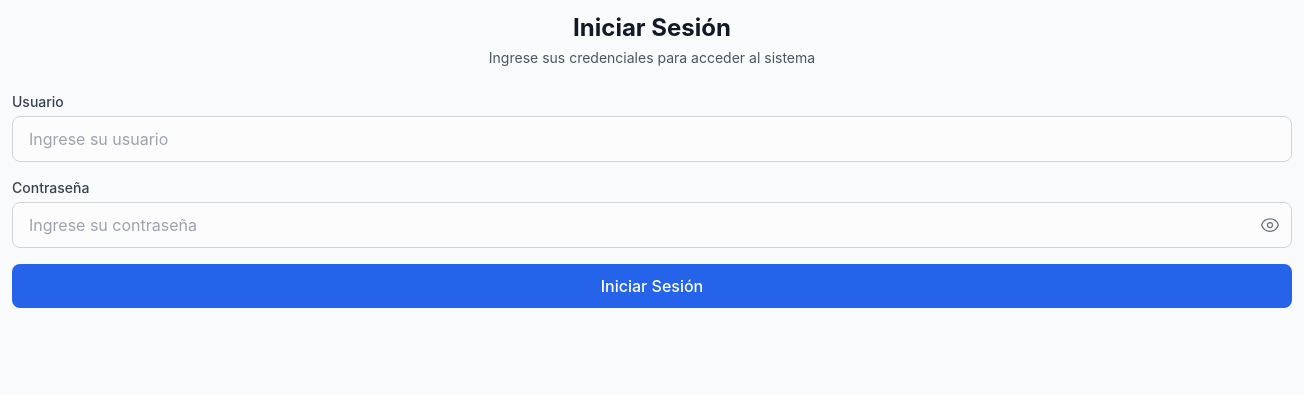
it: LoginPage › shows "Credenciales incorrectas" on 401 error
Step 1. Type "doctor1" into the field labelled "Usuario" → (652,139), box [12,116,1292,162]
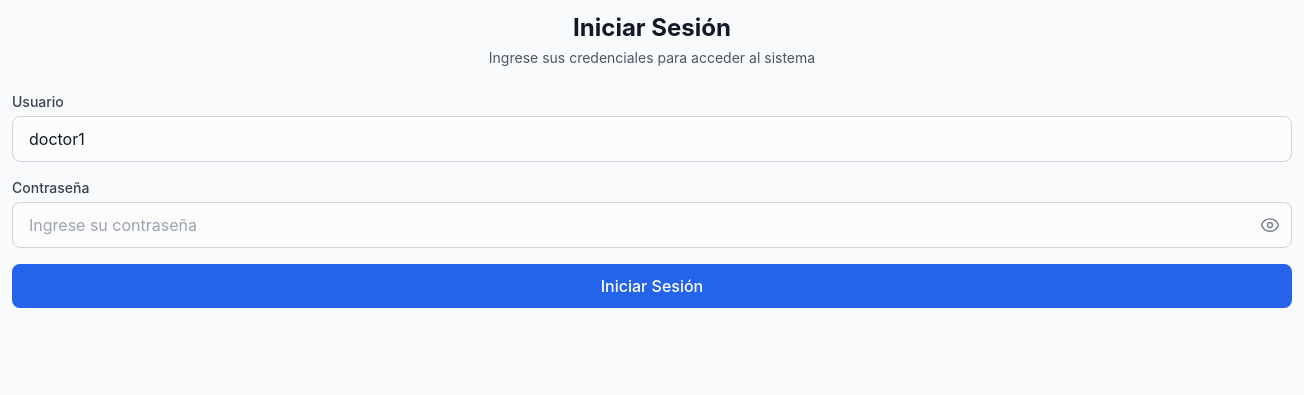
Step 2. Type "wrong" into the password field labelled "Contraseña" → (652,225), box [12,202,1292,248]
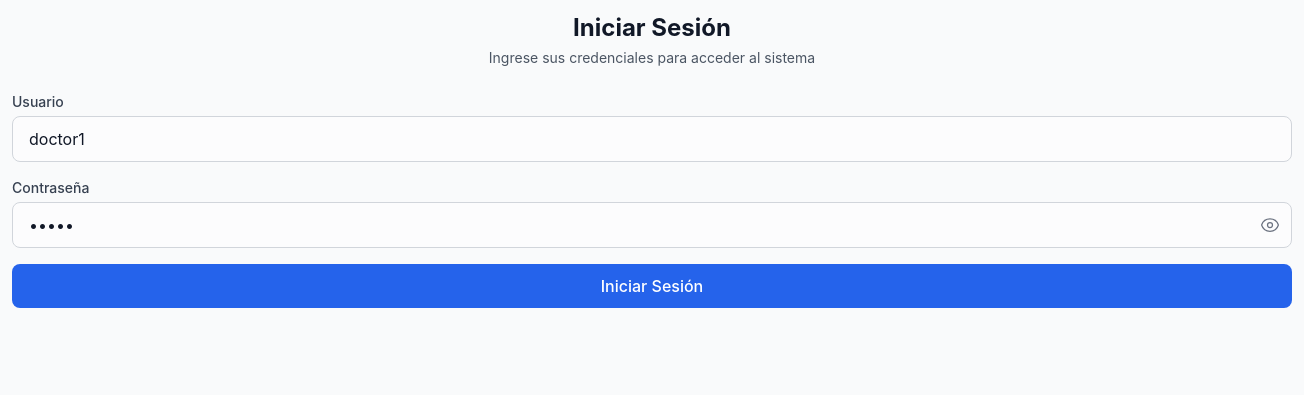
Step 3. Click the button "Iniciar Sesión" → (652,286), box [12,264,1292,308]
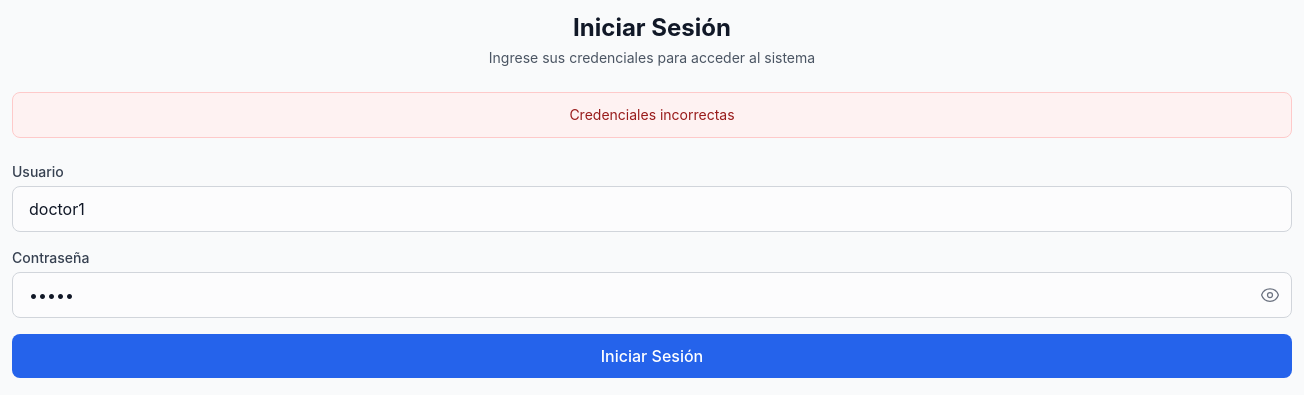
Expected: the text "Credenciales incorrectas" is shown, [569,106,735,123]
